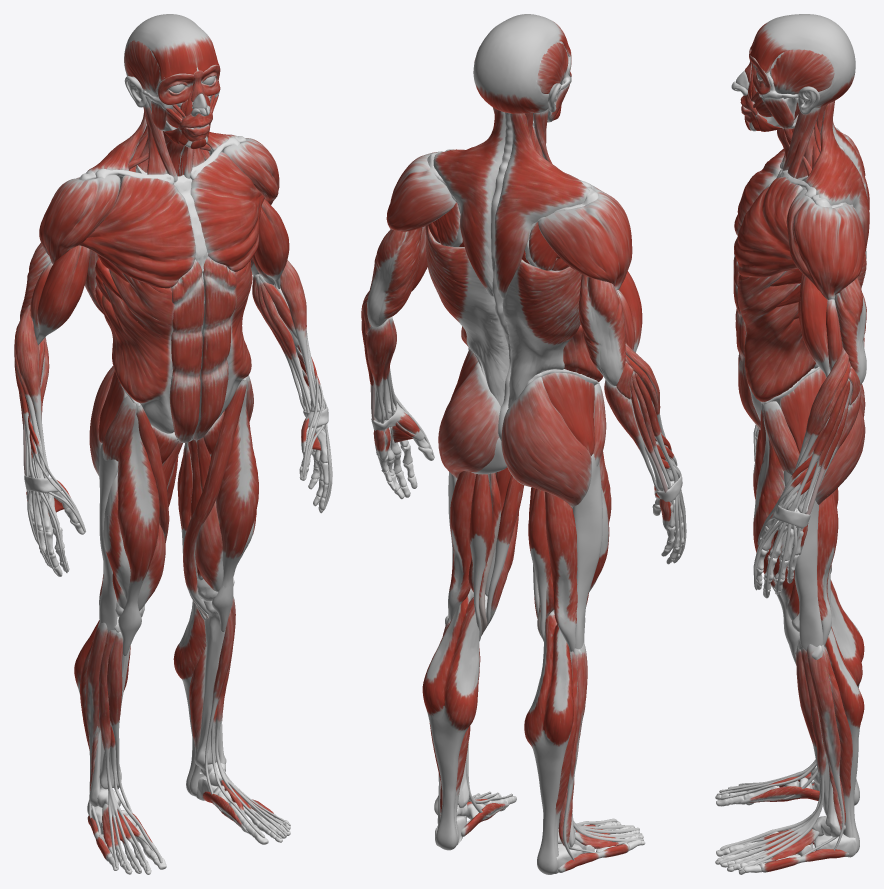
3 renders of one model, left to right at view 1: azimuth 30°, elevation 25°; view 2: azimuth 150°, elevation 25°; view 3: azimuth 270°, elevation 25°, orthographic. The views are drawn at different scales.
Parts seen in each view (by area): view 1: Object_23, Object_17, Object_29, Object_25, Object_31, Object_15, Object_33, Object_5, Object_7, Object_11, Object_27, Object_3 (+3 smaller); view 2: Object_13, Object_7, Object_3, Object_9, Object_5, Object_33, Object_15, Object_31, Object_29, Object_11, Object_25, Object_27 (+4 smaller); view 3: Object_23, Object_25, Object_15, Object_29, Object_31, Object_5, Object_7, Object_3, Object_33, Object_13, Object_11, Object_17 (+3 smaller).
Part boxes in pixels (bbox=[...]): Object_23: bbox=[79, 152, 264, 442]; Object_17: bbox=[103, 377, 258, 656]; Object_29: bbox=[26, 41, 328, 874]; Object_25: bbox=[85, 595, 290, 872]; Object_31: bbox=[14, 260, 332, 575]; Object_15: bbox=[124, 14, 220, 149]; Object_33: bbox=[20, 199, 289, 345]; Object_5: bbox=[39, 138, 279, 263]; Object_7: bbox=[74, 572, 206, 814]; Object_11: bbox=[24, 76, 328, 631]; Object_27: bbox=[151, 410, 224, 615]; Object_3: bbox=[89, 366, 253, 476]; Object_13: bbox=[425, 109, 590, 407]; Object_7: bbox=[422, 595, 578, 874]; Object_3: bbox=[438, 349, 606, 507]; Object_9: bbox=[448, 471, 577, 651]; Object_5: bbox=[386, 151, 632, 289]; Object_33: bbox=[367, 226, 642, 385]; Object_15: bbox=[473, 14, 571, 121]; Object_31: bbox=[361, 291, 686, 562]; Object_29: bbox=[371, 41, 684, 873]; Object_11: bbox=[371, 83, 682, 649]; Object_25: bbox=[437, 617, 643, 872]; Object_27: bbox=[485, 467, 554, 629]; Object_23: bbox=[733, 149, 815, 429]; Object_25: bbox=[717, 644, 849, 872]; Object_15: bbox=[740, 14, 855, 131]; Object_29: bbox=[715, 49, 857, 874]; Object_31: bbox=[753, 347, 861, 597]; Object_5: bbox=[786, 127, 865, 299]; Object_7: bbox=[824, 579, 864, 852]; Object_3: bbox=[763, 368, 865, 504]; Object_33: bbox=[798, 250, 866, 384]; Object_13: bbox=[770, 101, 869, 368]; Object_11: bbox=[731, 71, 845, 650]; Object_17: bbox=[753, 402, 799, 665].
Bounding box in the file's own units: 26.15 × 68.16 × 11.7.
Materials: 16 (14 with a texture image).
